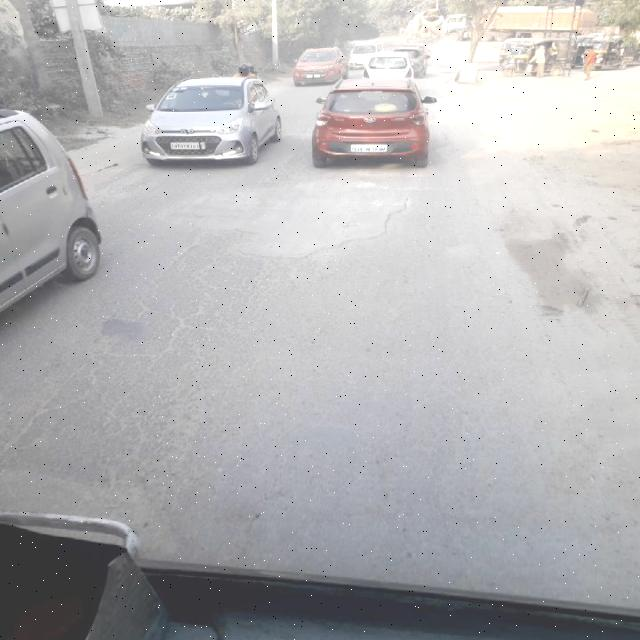D00: (8, 231, 196, 457)
D20: (23, 238, 533, 530)
